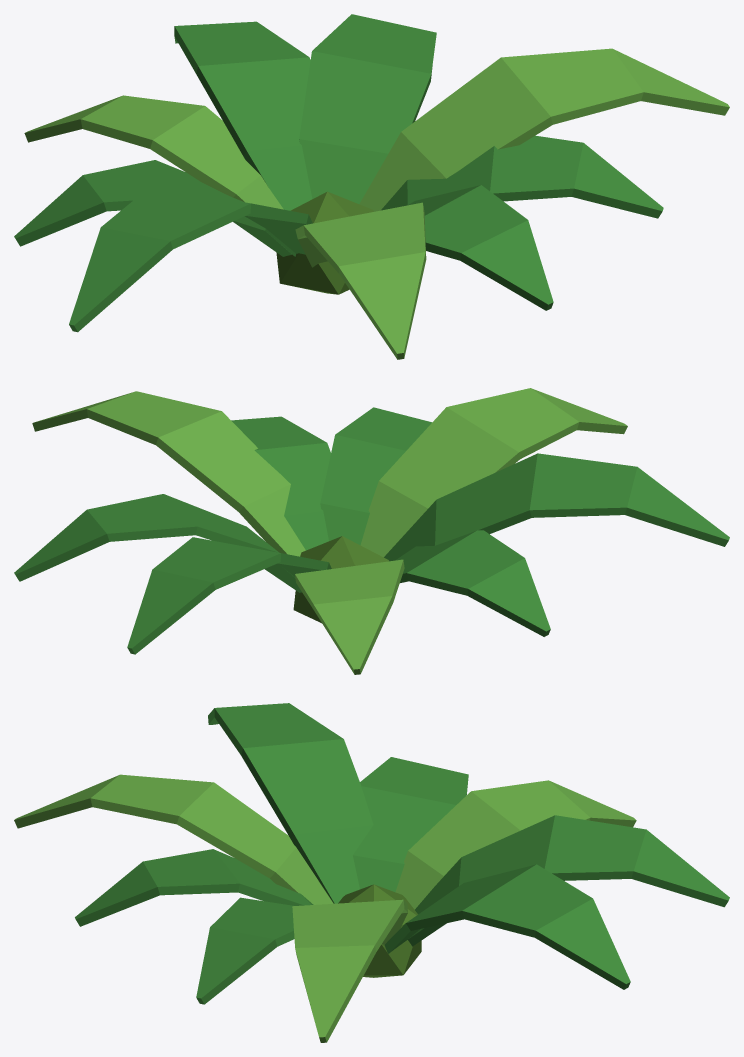
File: desert_fern.glb
3 renders of one model, top to bottom at view 1: azimuth 30°, elevation 25°; view 2: azimuth 150°, elevation 25°; view 3: azimuth 270°, elevation 25°, orthographic. The views are drawn at different scales.
Visible parts, largest first — view 1: desert_fern; view 2: desert_fern; view 3: desert_fern.
Boxes of the visible parts, x1,y1,x2,y2 form: desert_fern: (14,14,729,359); desert_fern: (14,388,729,674); desert_fern: (14,703,729,1042).
Size of the model in its own units: 2.44 by 0.5771 by 2.29.
